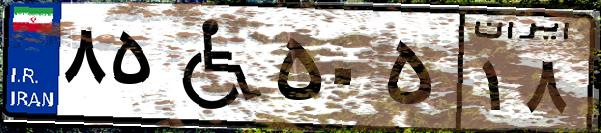0: (330, 28, 385, 110)
1: (475, 38, 525, 113)
5: (270, 28, 330, 110), (385, 28, 445, 110), (110, 28, 158, 98)
8: (57, 26, 110, 100), (525, 38, 570, 115)
ژ (معلولین و جانبازان): (158, 12, 270, 120)
